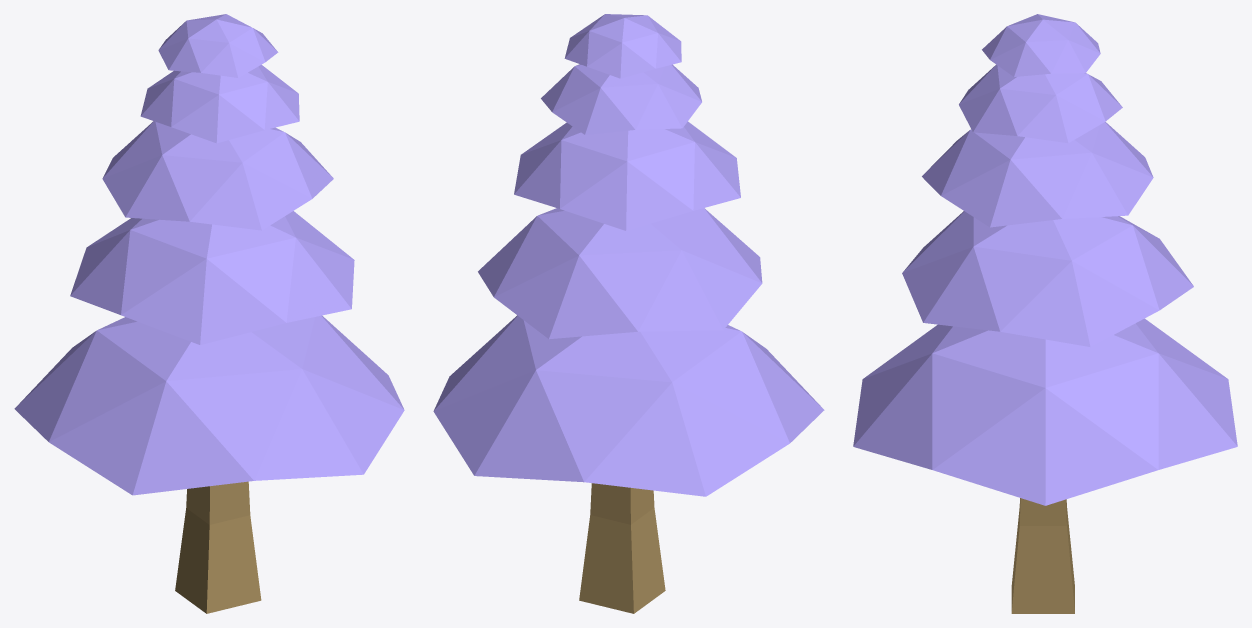
The model's file is tree-yellow.fbx.
3 views of the same model, side by side, from view 1: azimuth 30°, elevation 25°; view 2: azimuth 150°, elevation 25°; view 3: azimuth 270°, elevation 25° (orthographic).
Visible parts, largest first — view 1: 平面; view 2: 平面; view 3: 平面.
Boxes of the visible parts, x1,y1,x2,y2 form: 平面: (14,14,404,613); 平面: (433,14,824,613); 平面: (853,14,1237,613).
Size of the model in its own units: 454 by 737 by 443.
